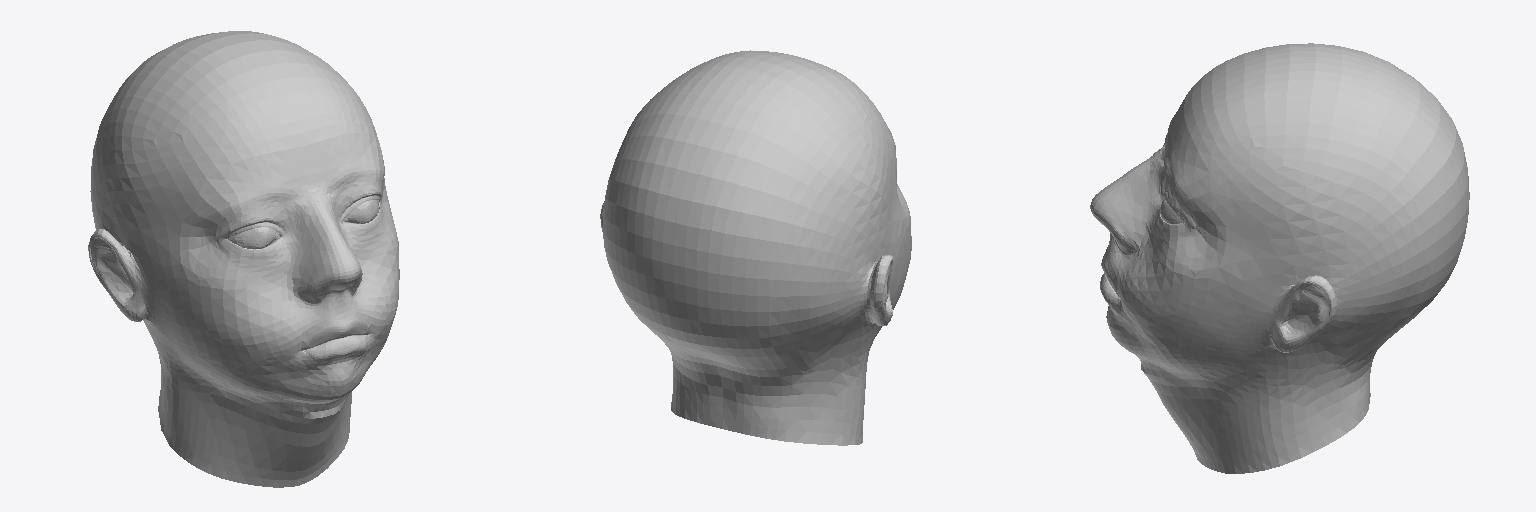
3 views of the same model, side by side, from view 1: azimuth 30°, elevation 25°; view 2: azimuth 150°, elevation 25°; view 3: azimuth 270°, elevation 25° (orthographic).
Parts seen in each view (by area): view 1: FaceGen; view 2: FaceGen; view 3: FaceGen.
Part boxes in pixels (x1,y1,x2,y2): FaceGen: (88,31,399,487); FaceGen: (600,50,911,445); FaceGen: (1090,43,1469,473).
Size of the model in its own units: 210 by 281 by 243.